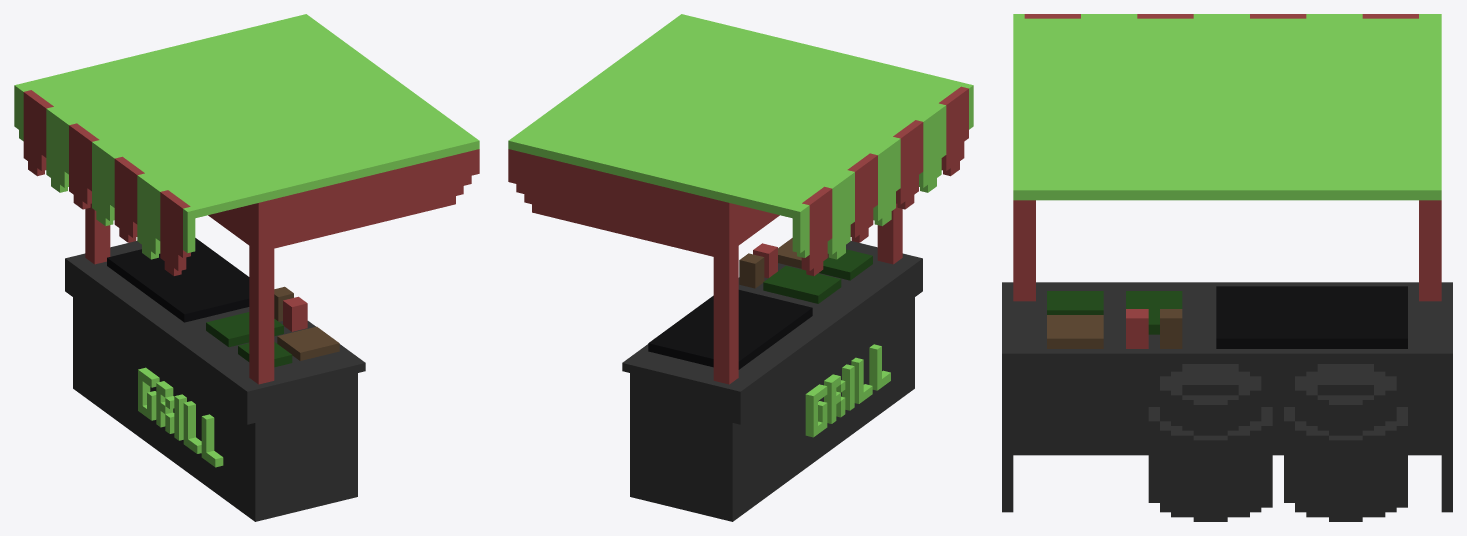
File: shop-5.obj
3 renders of one model, left to right at view 1: azimuth 30°, elevation 25°; view 2: azimuth 150°, elevation 25°; view 3: azimuth 270°, elevation 25°, orthographic. The views are drawn at different scales.
Bounding box in the file's own units: 3.7 × 3.9 × 4.
Materials: 1 (1 with a texture image).
